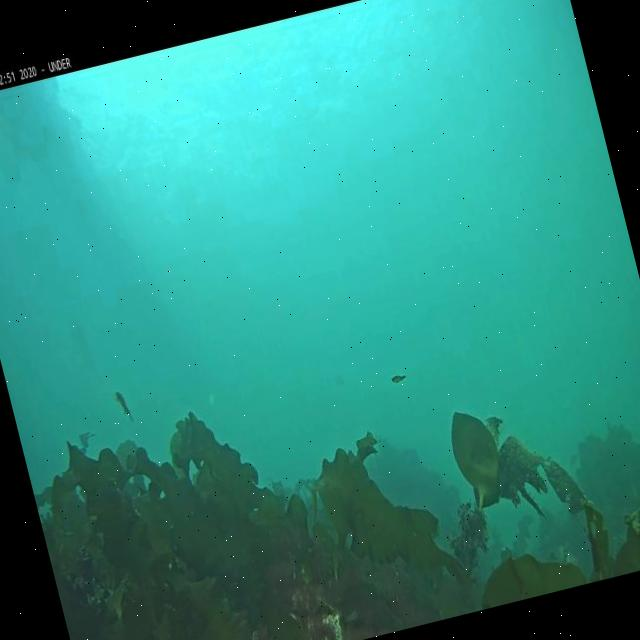fish: (112, 388, 132, 422), (390, 368, 410, 384)
